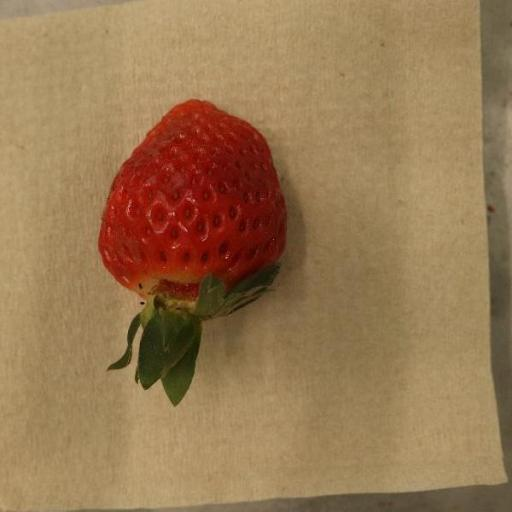Strawberry: (99, 100, 288, 408)
